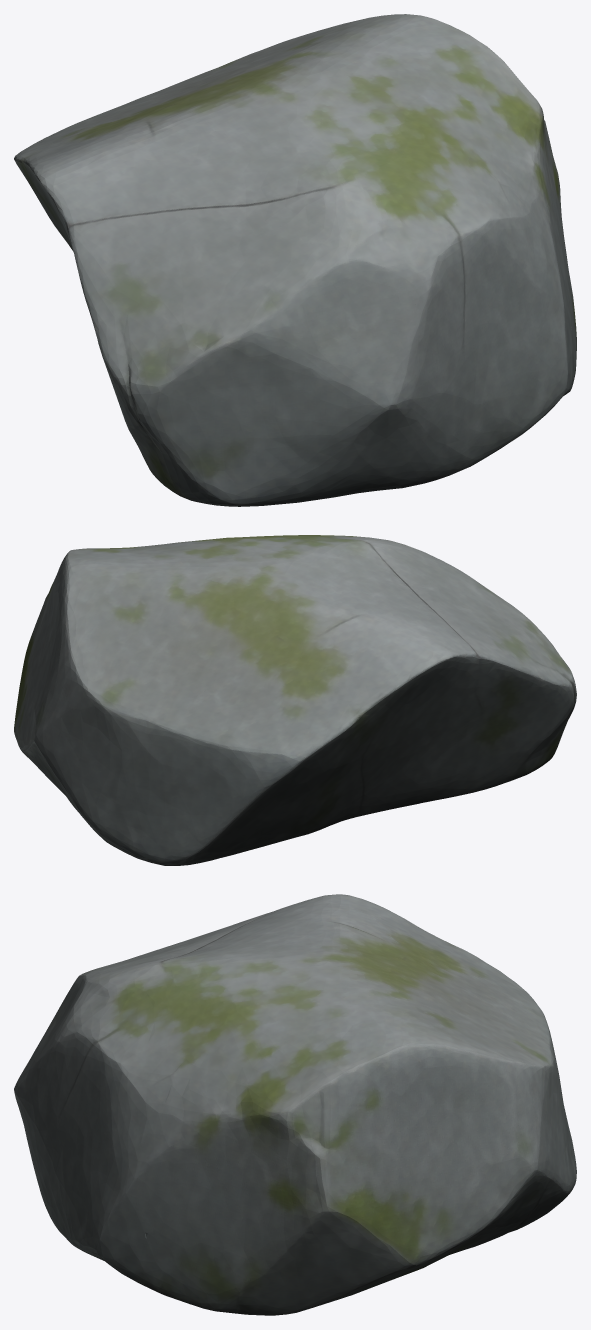
The model's file is rock.glb.
3 views of the same model, one above another, from view 1: azimuth 30°, elevation 25°; view 2: azimuth 150°, elevation 25°; view 3: azimuth 270°, elevation 25° (orthographic). The views are drawn at different scales.
Parts seen in each view (by area): view 1: geometry_0; view 2: geometry_0; view 3: geometry_0.
Boxes of the visible parts, <box> form: geometry_0: <box>14,14,576,506</box>; geometry_0: <box>14,535,576,865</box>; geometry_0: <box>14,894,576,1315</box>.
Size of the model in its own units: 0.9985 by 0.5191 by 0.993.
Materials: 1 (1 with a texture image).
